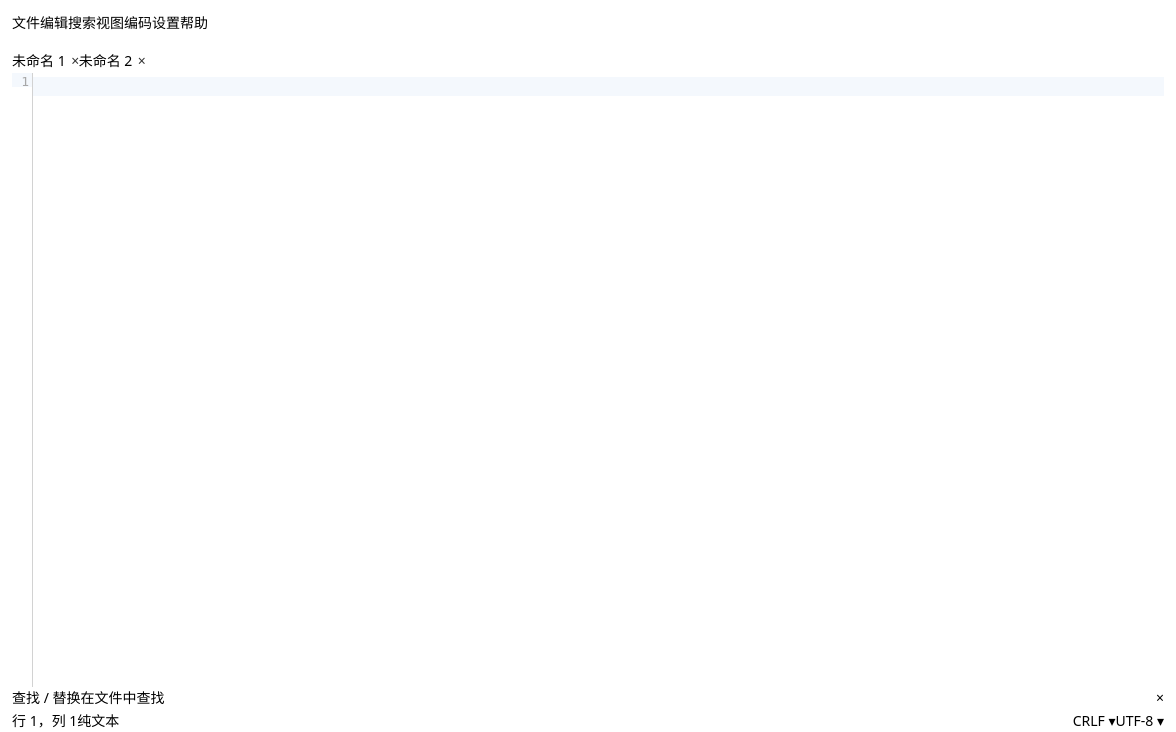
Test: AppShell › 切标签显示目标文档的内容，且不把刚切到的标签标成未保存（R34）
Click the button with class "tab" showing "未命名 1 ×". click: (45, 62)
box: [12,50,79,73]
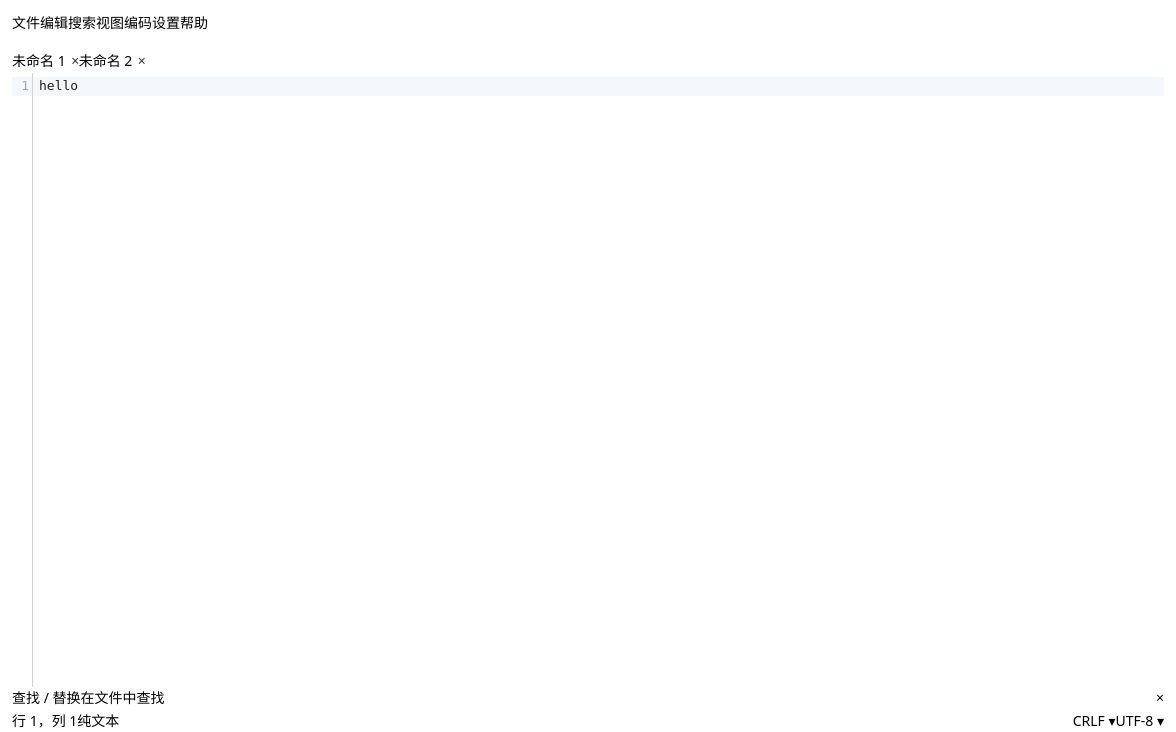
Now the text box labelled "hello" is shown, box [33,77,1164,96]
